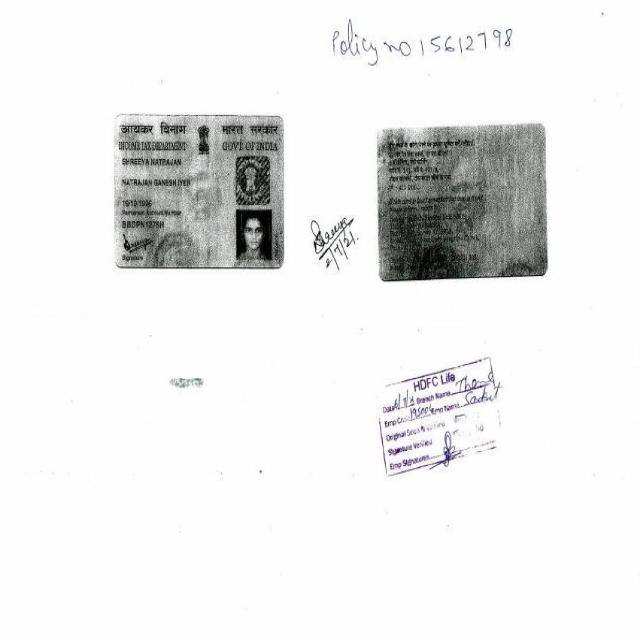pan_card: (113, 113, 284, 268), (378, 124, 547, 280)
